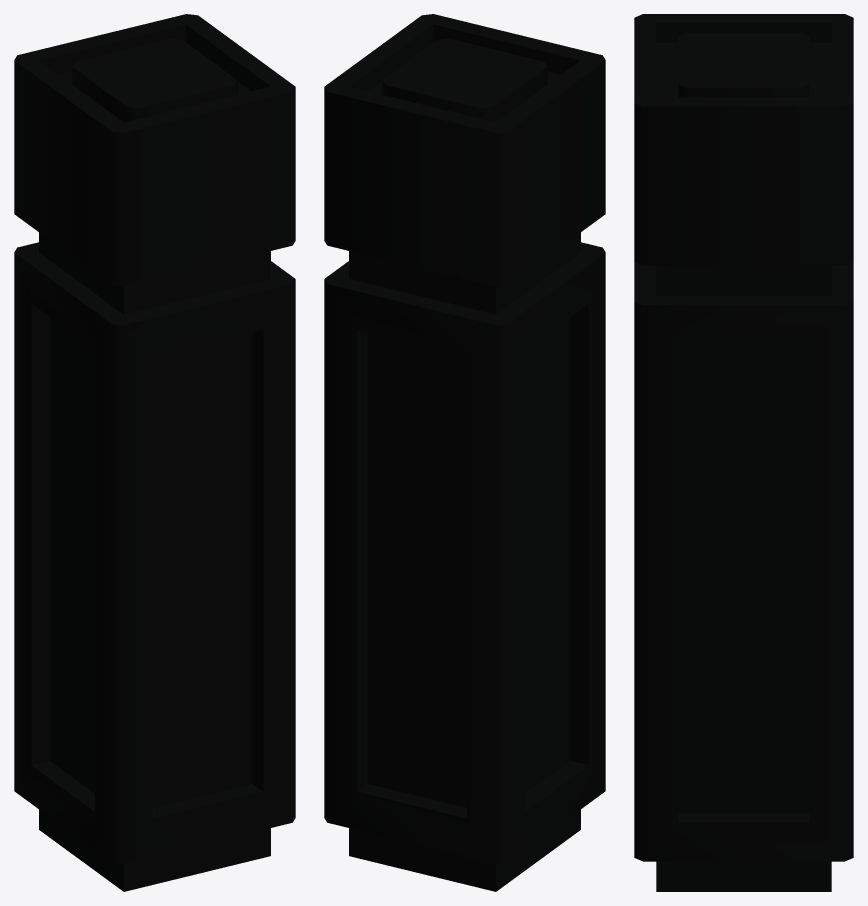
File: low-detail-building-a.glb
3 views of the same model, side by side, from view 1: azimuth 30°, elevation 25°; view 2: azimuth 150°, elevation 25°; view 3: azimuth 270°, elevation 25° (orthographic). The views are drawn at different scales.
Visible parts, largest first — view 1: low-detail-building-a; view 2: low-detail-building-a; view 3: low-detail-building-a.
Part boxes in pixels (bbox=[...]): low-detail-building-a: bbox=[14, 14, 295, 891]; low-detail-building-a: bbox=[324, 14, 605, 891]; low-detail-building-a: bbox=[634, 14, 853, 891].
Size of the model in its own units: 0.5003 by 2 by 0.5003.
Materials: 1 (1 with a texture image).
